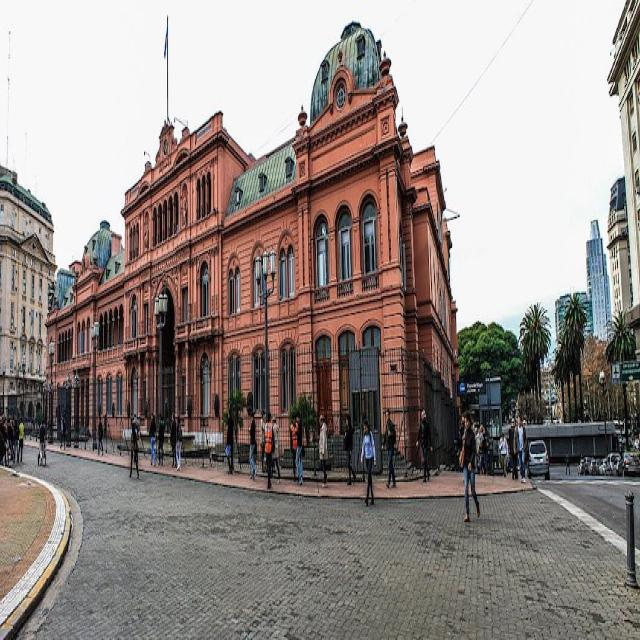body: (462, 411, 481, 525), (359, 415, 376, 507), (380, 406, 397, 490), (415, 406, 433, 483), (474, 417, 493, 476), (0, 411, 18, 468), (513, 412, 527, 484), (264, 411, 276, 491), (345, 412, 357, 487), (246, 409, 258, 482), (269, 415, 281, 487), (318, 412, 329, 488), (293, 411, 304, 486), (224, 406, 235, 476), (128, 421, 140, 482), (290, 409, 300, 482), (509, 416, 519, 480), (498, 431, 509, 479), (148, 411, 157, 468), (169, 411, 178, 468), (258, 408, 266, 472), (156, 415, 165, 465), (175, 414, 182, 474), (38, 416, 46, 466), (17, 415, 24, 465), (186, 392, 193, 434), (492, 432, 499, 474), (98, 414, 104, 457), (458, 411, 464, 451), (60, 412, 66, 450), (564, 445, 570, 477), (164, 401, 169, 434), (134, 412, 138, 436)
